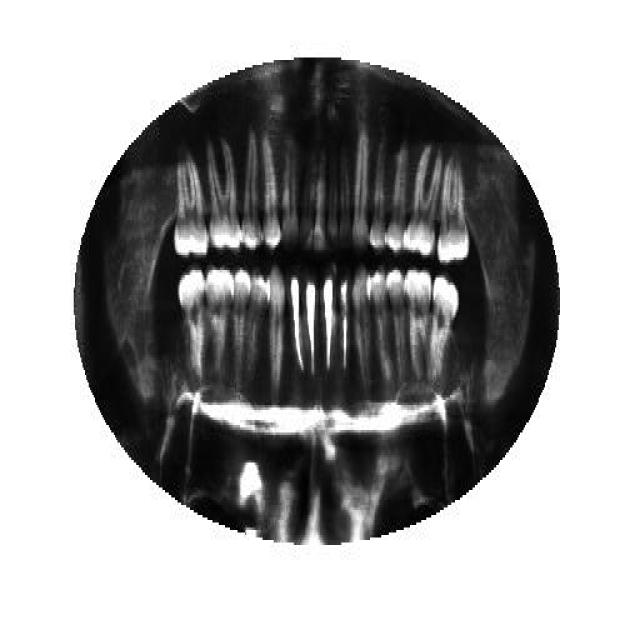Implant: (285, 265, 304, 383), (335, 265, 351, 377), (319, 275, 335, 373), (305, 270, 316, 378)
